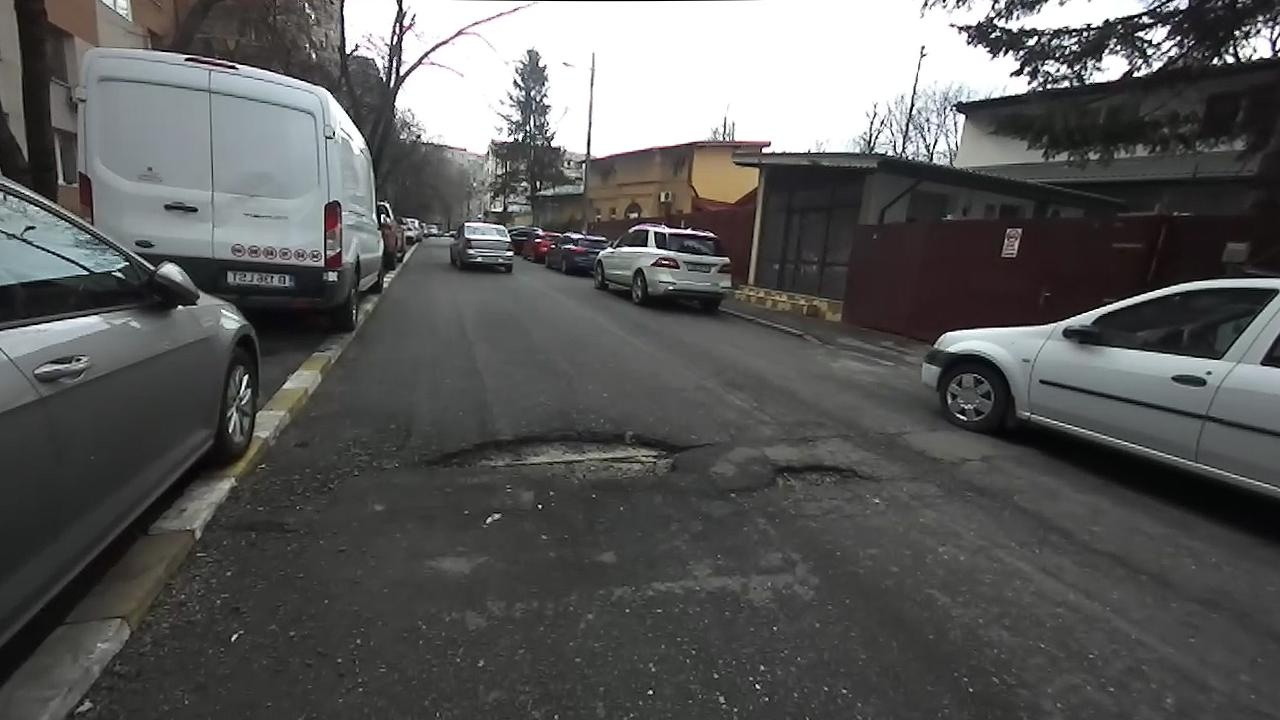pothole: (405, 425, 710, 491), (736, 458, 885, 499)
